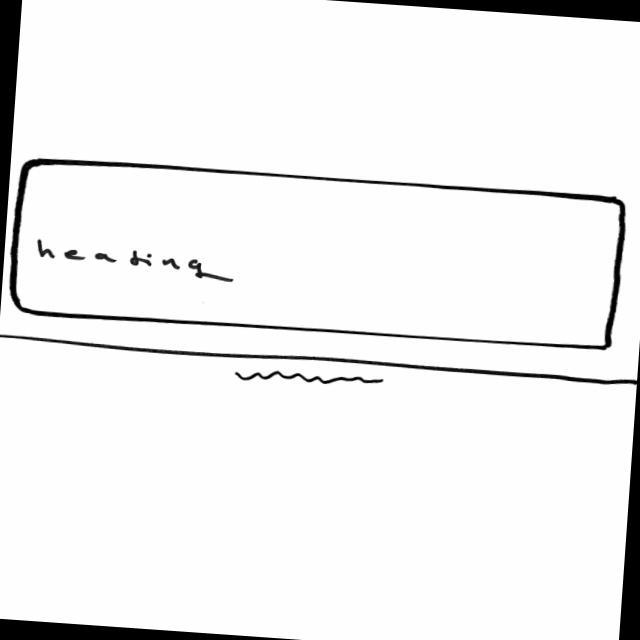container: (4, 155, 629, 357)
label: (37, 239, 237, 286)
text: (233, 367, 386, 393)
